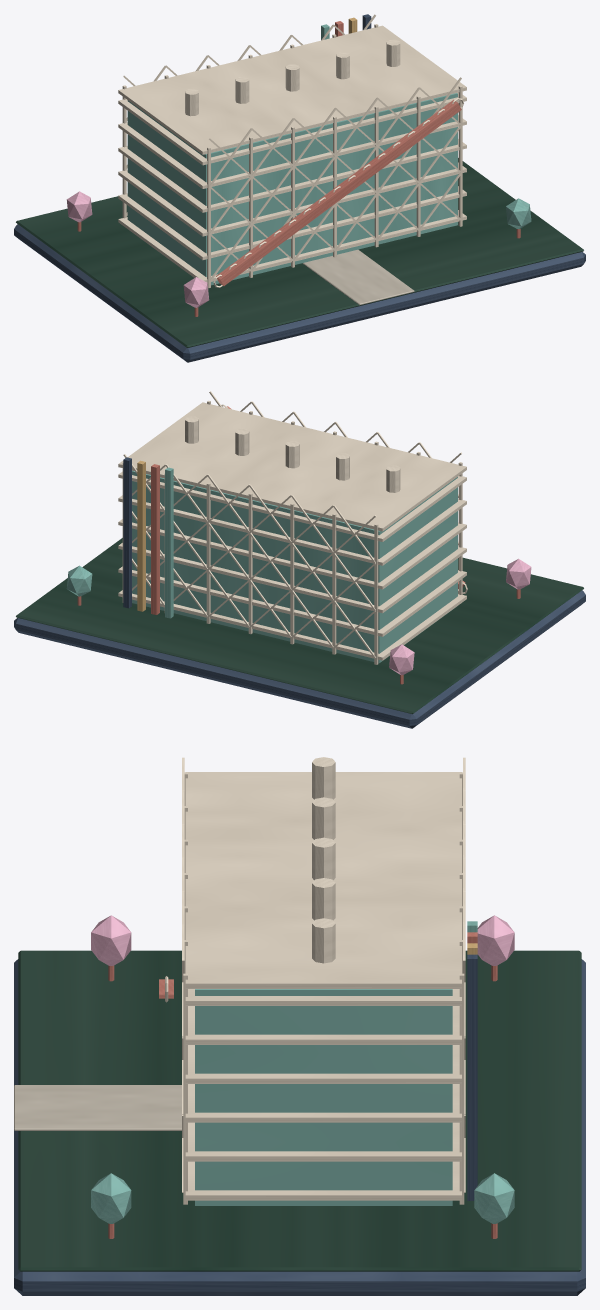
Rendered from centre-pompidou-diorama.glb.
3 renders of one model, top to bottom at view 1: azimuth 30°, elevation 25°; view 2: azimuth 150°, elevation 25°; view 3: azimuth 270°, elevation 25°, orthographic. The views are drawn at different scales.
Visible parts, largest first — view 1: centre-pompidou; view 2: centre-pompidou; view 3: centre-pompidou.
Part boxes in pixels (bbox=[...]): centre-pompidou: bbox=[14, 14, 585, 362]; centre-pompidou: bbox=[14, 391, 585, 728]; centre-pompidou: bbox=[14, 757, 585, 1295].
Bounding box in the file's own units: 16 × 6.85 × 12.
1 material, 1 textured.
